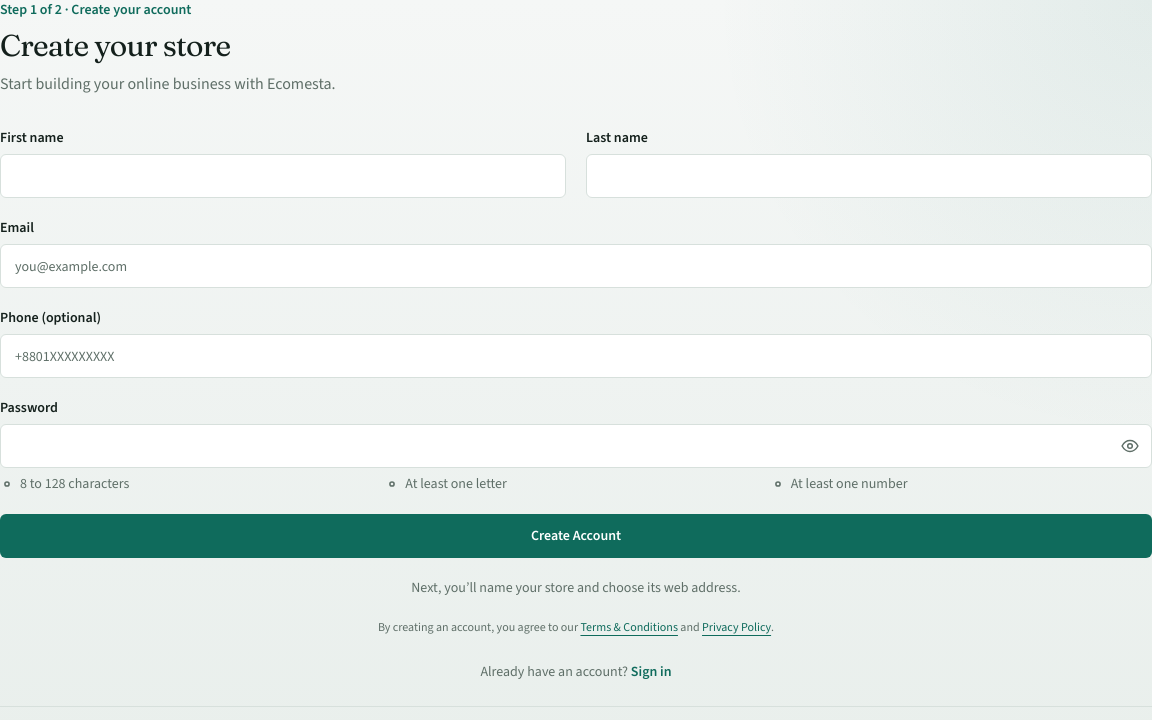
Register form › shows API error message
Type "Liton" into the field labelled "First name" at x=283, y=176, box [0, 154, 566, 198]
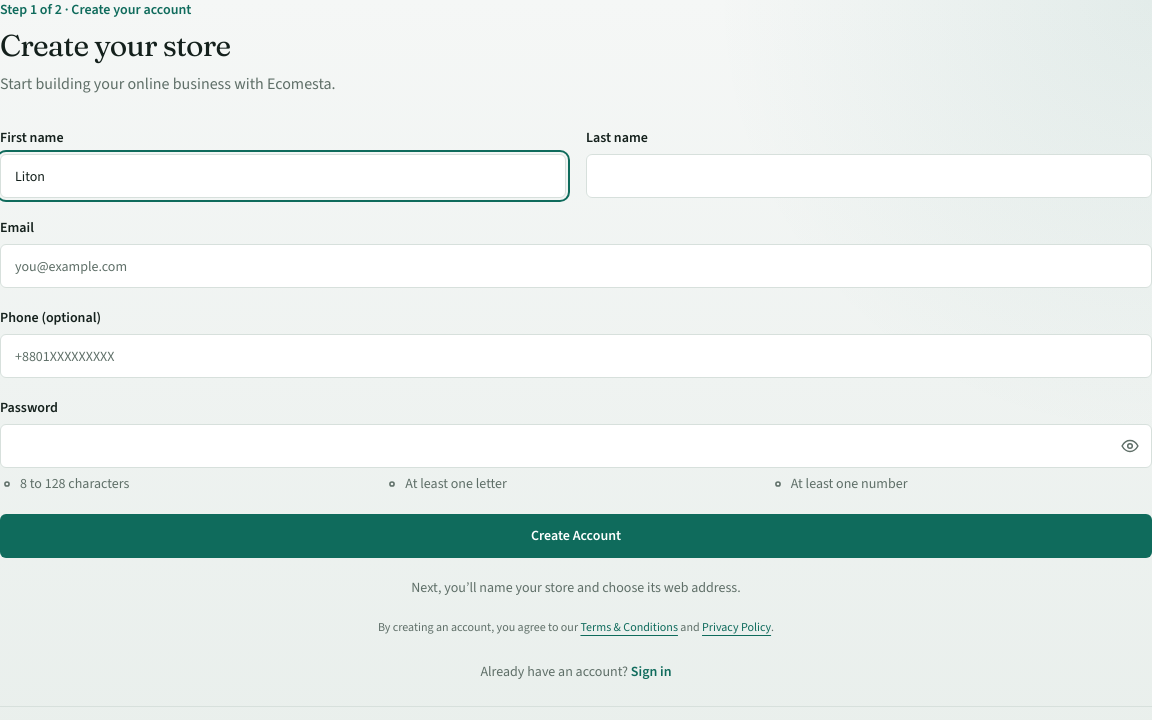
Type "Islam" into the field labelled "Last name" at x=869, y=176, box [586, 154, 1151, 198]
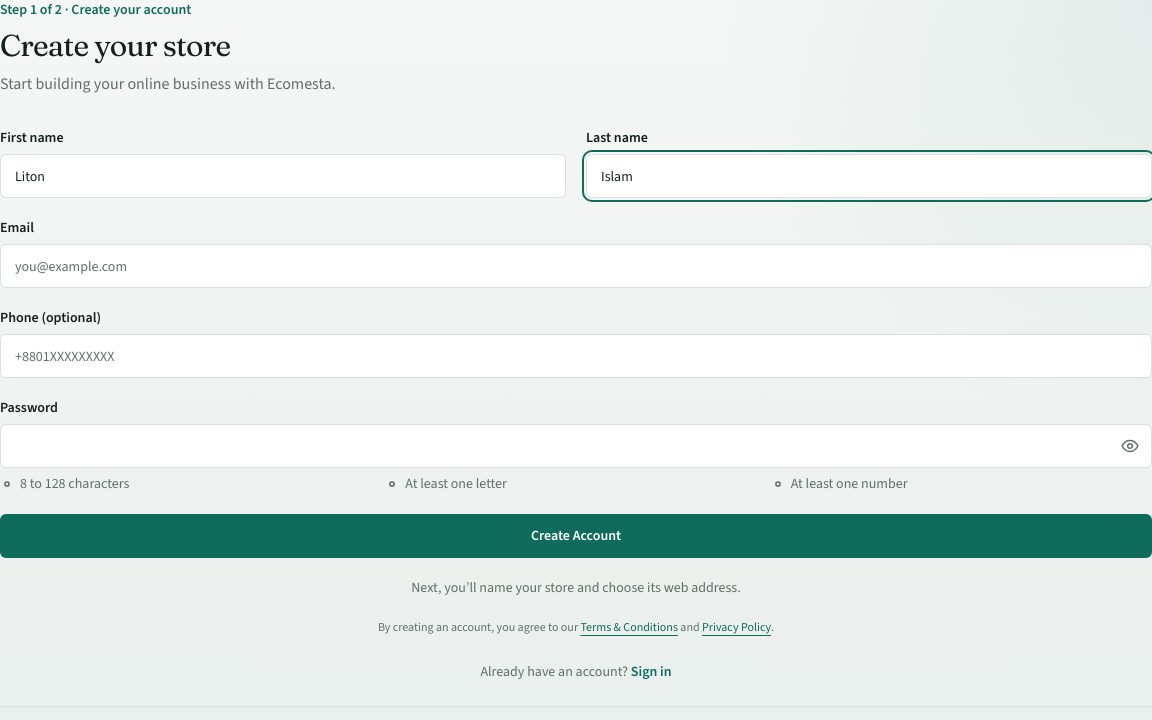
Type "taken@example.com" into the field labelled "Email" at x=576, y=266, box [0, 244, 1151, 288]
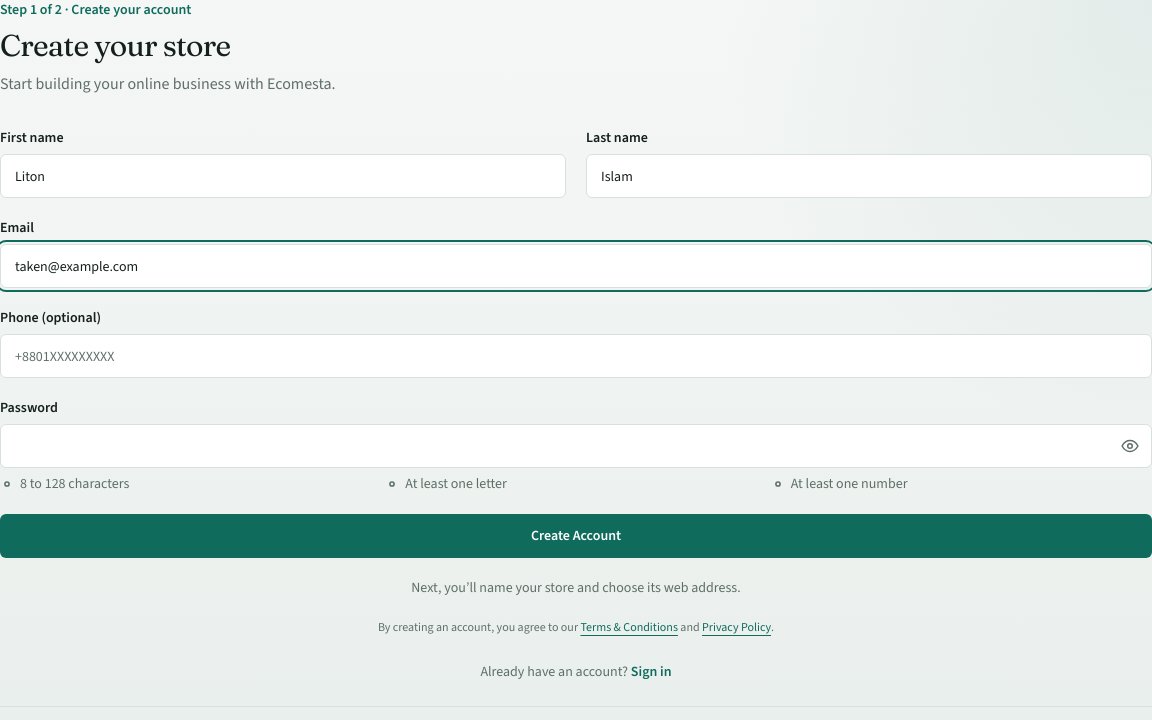
Type "SecurePass1" into the password field labelled "Password" at x=576, y=446, box [0, 424, 1151, 468]
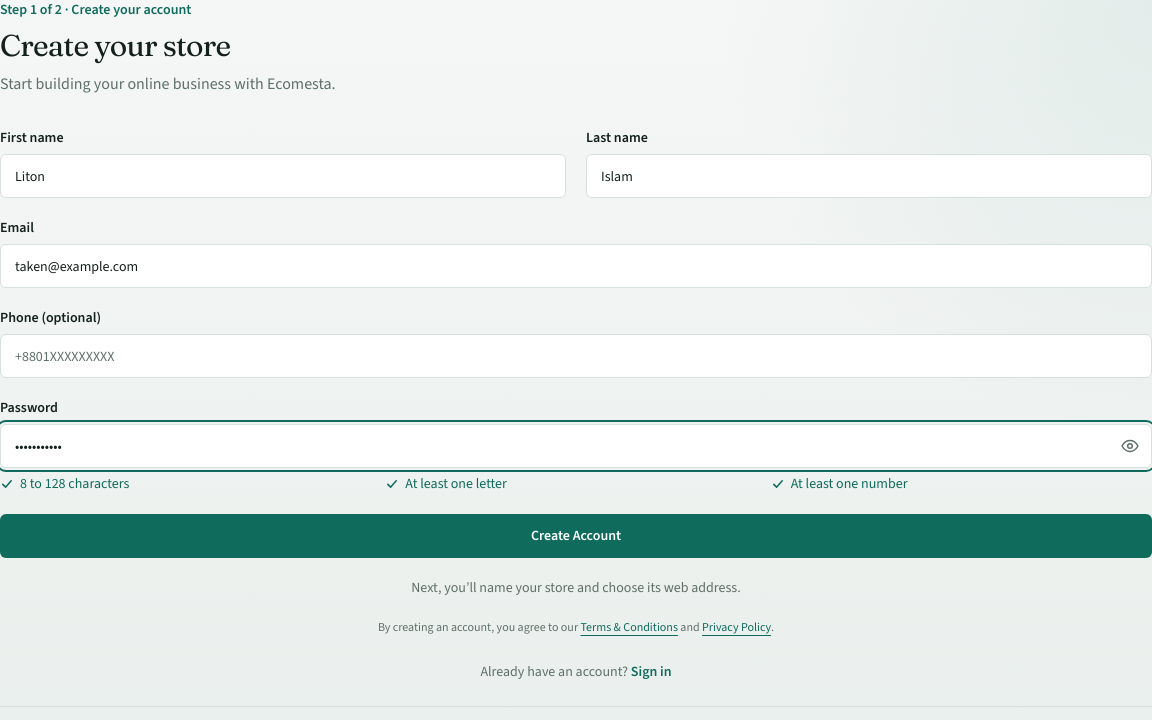
Click the button "Create Account" at x=576, y=536, box [0, 514, 1151, 558]
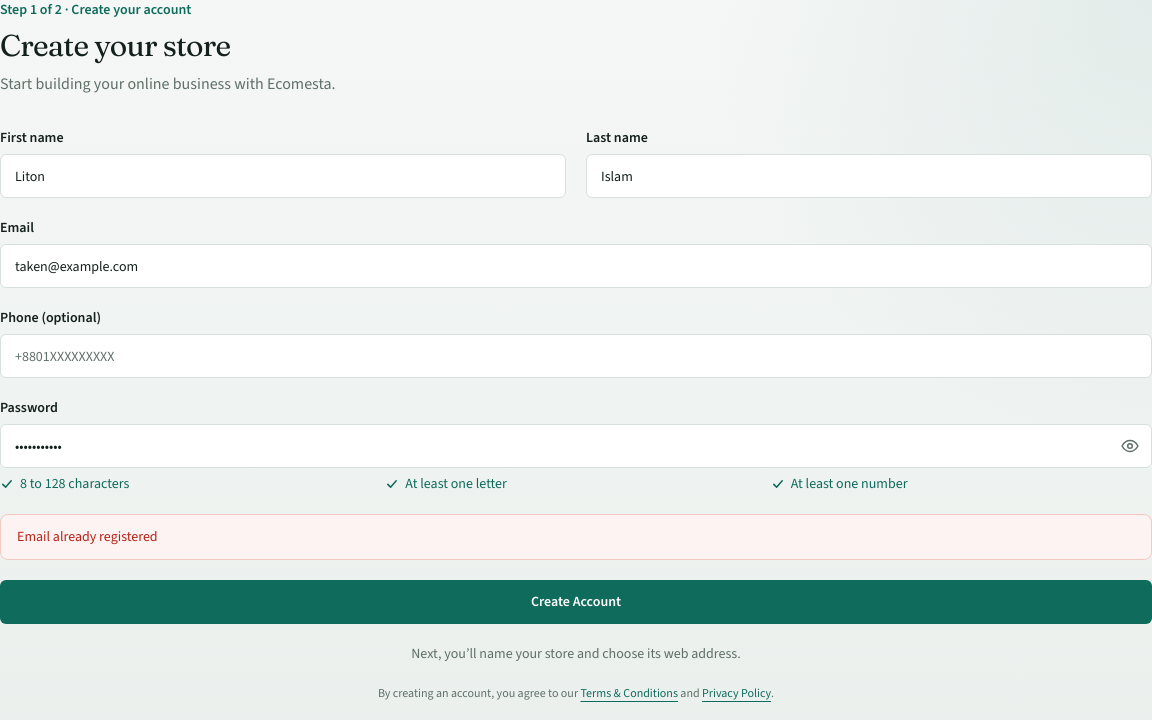
Result: the message reads "Email already registered" at [17, 527, 158, 546]
